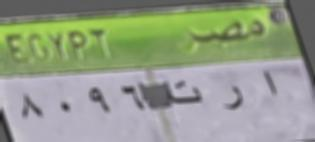0: (56, 99, 75, 115)
6: (120, 84, 145, 117)
8: (18, 93, 45, 123)
9: (85, 84, 112, 119)
alif: (259, 65, 282, 102)
raa: (219, 80, 247, 115)
taa: (162, 78, 204, 111)
